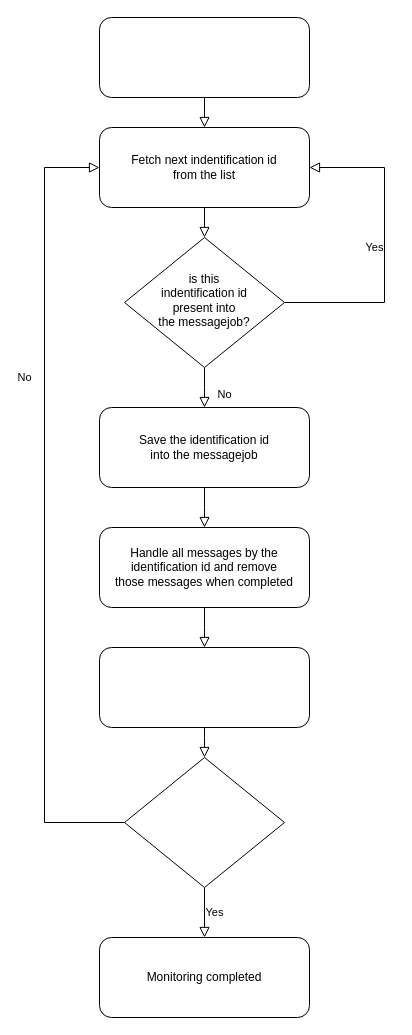
This 412x1035 diagram has some shape labels left out. Here are the shapes that lost their labels. From the top down, the centre of each, then its label:
(204,57): Fetch the list of composition ids and instance ids that have to be monitored
(204,687): When all messages are completed remove the identification id from the messagejob
(204,822): Is the indentification id list empty?
